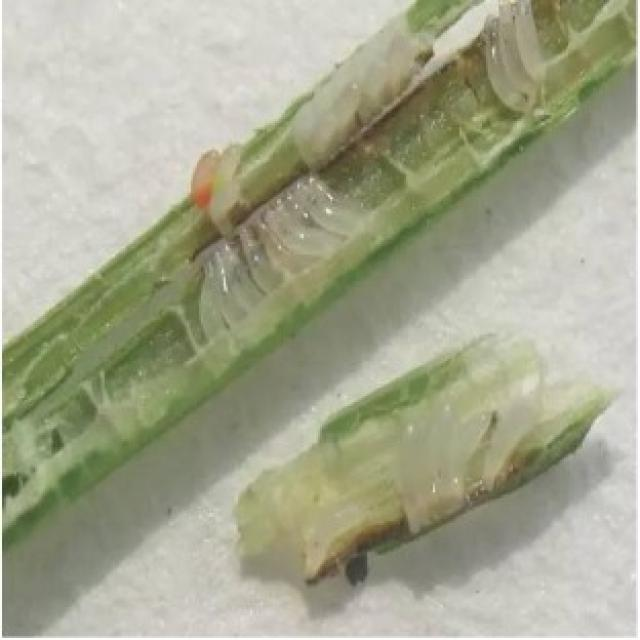brown plant hopper: (201, 176, 359, 322)
